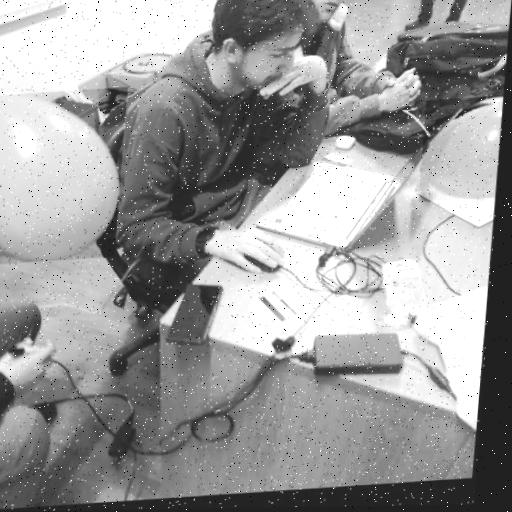balloon: (0, 88, 127, 265), (418, 101, 503, 207)
